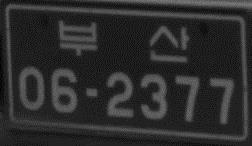-: (81, 83, 101, 99)
0: (18, 64, 46, 112)
2: (104, 70, 135, 118)
3: (139, 72, 168, 120)
6: (50, 65, 78, 115)
7: (171, 73, 202, 123), (206, 74, 235, 127)
부산_D: (55, 17, 190, 64)
